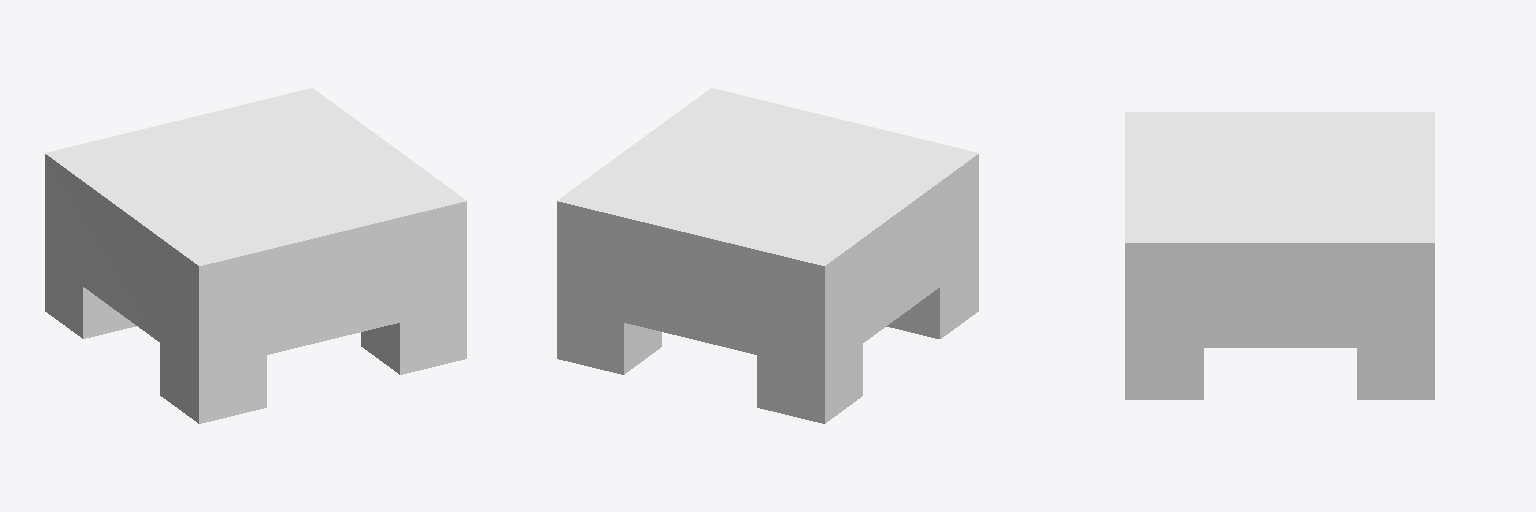
Rendered from advanced_crafting.obj.
3 views of the same model, side by side, from view 1: azimuth 30°, elevation 25°; view 2: azimuth 150°, elevation 25°; view 3: azimuth 270°, elevation 25° (orthographic).
Parts seen in each view (by area): view 1: Cube_Cube.001; view 2: Cube_Cube.001; view 3: Cube_Cube.001.
Part boxes in pixels (bbox=[...]): Cube_Cube.001: bbox=[45, 88, 466, 423]; Cube_Cube.001: bbox=[557, 88, 978, 423]; Cube_Cube.001: bbox=[1125, 112, 1434, 399].
Bounding box in the file's own units: 1 × 0.5625 × 1.